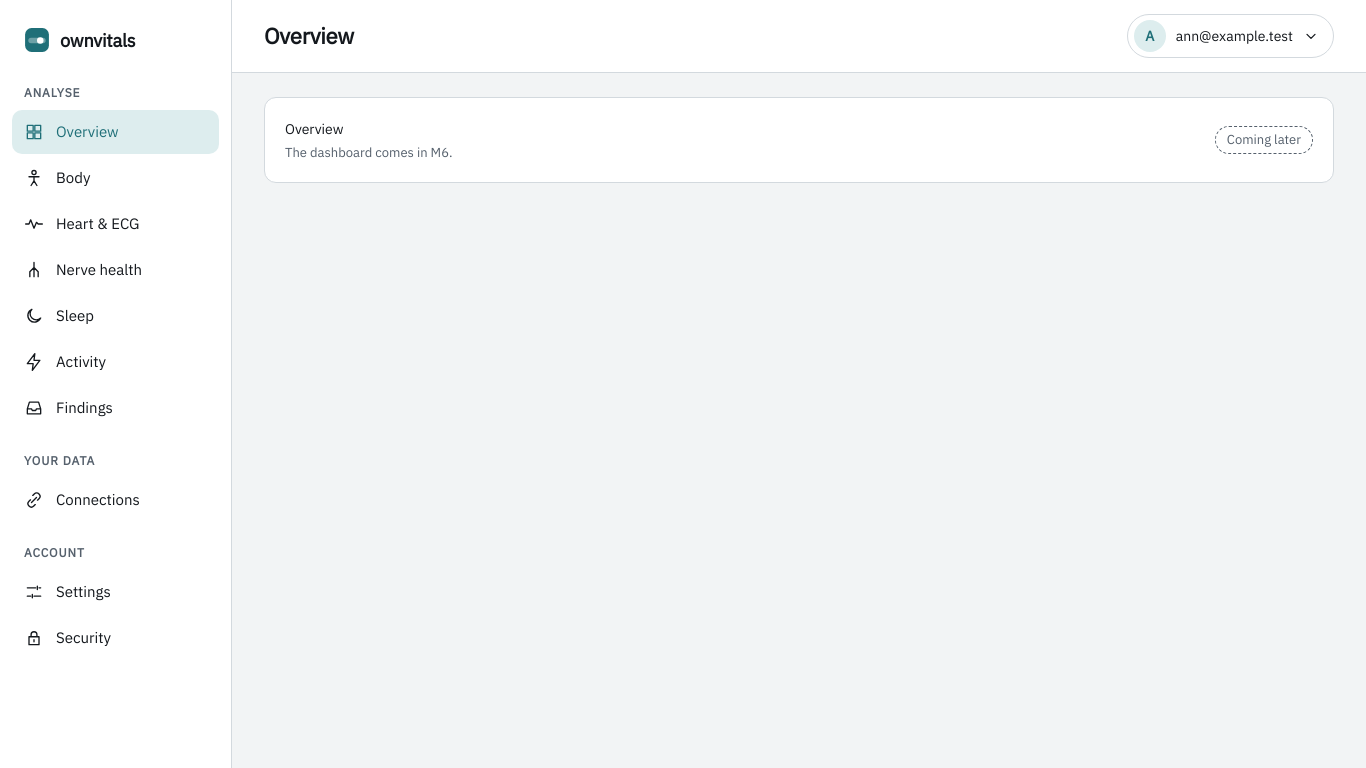
Test case: signing out › posts the logout, reads the session again and goes to sign-in
The image size is (1366, 768).
Click the button "A ann@example.test": click(1230, 36) [1127,14,1334,58]
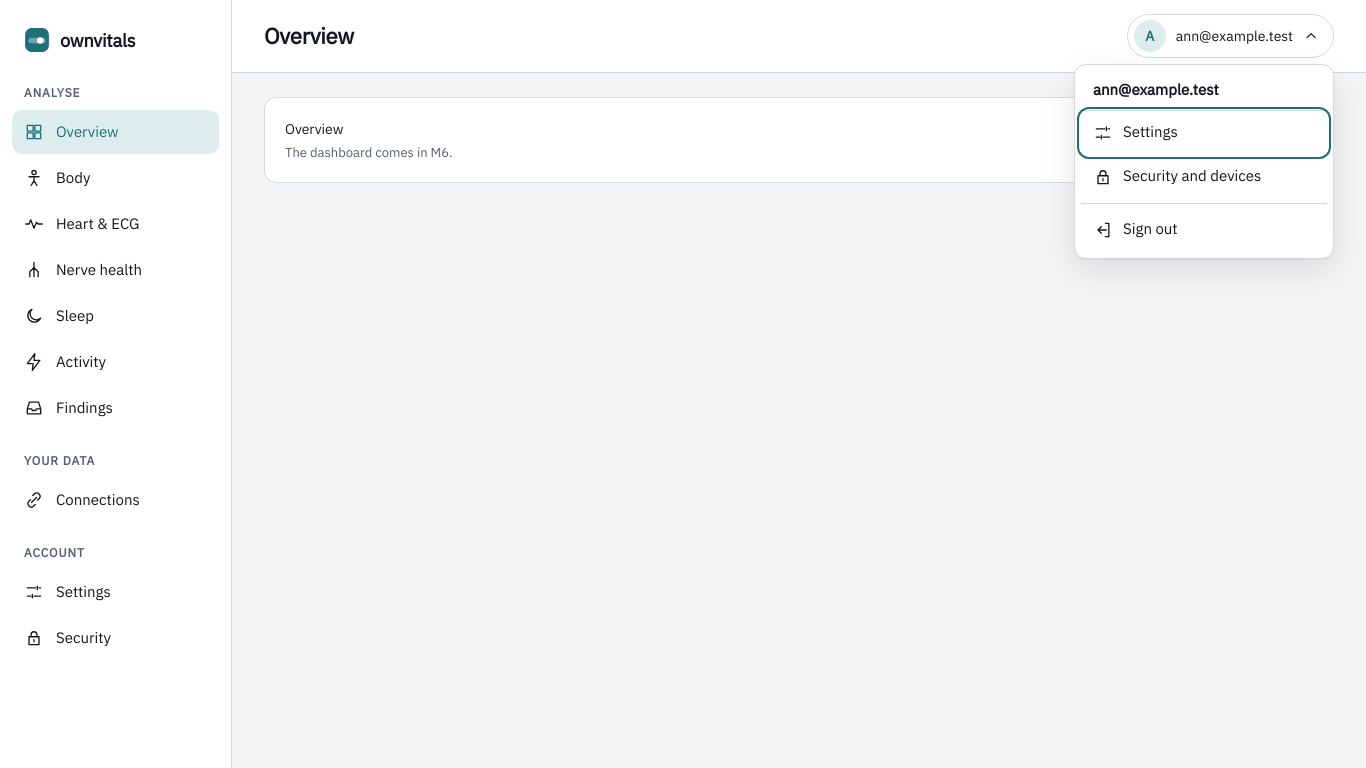
Click the menu item "Sign out": click(1204, 230) [1081,208,1327,252]
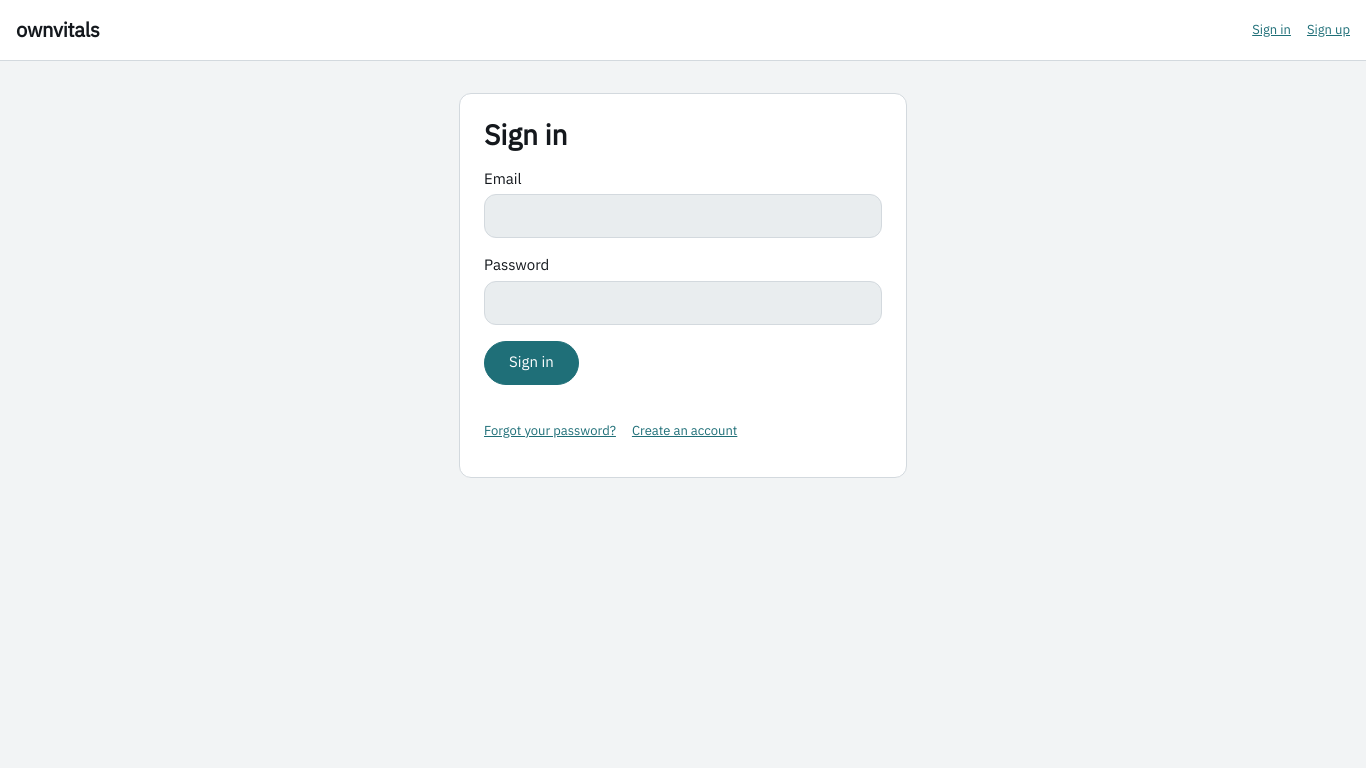
Expected: the heading "Sign in" is shown, [484,116,568,153]
Expected: the button "ann@example.test" is gone
